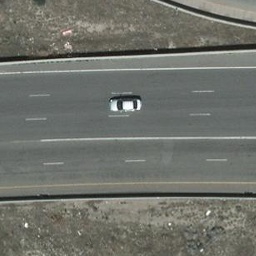car: (111, 97, 141, 112)
